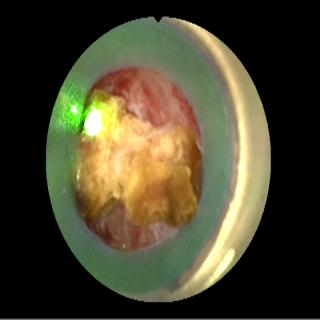laser: (82, 105, 108, 137), (67, 103, 84, 125)
stone: (78, 89, 202, 225)
